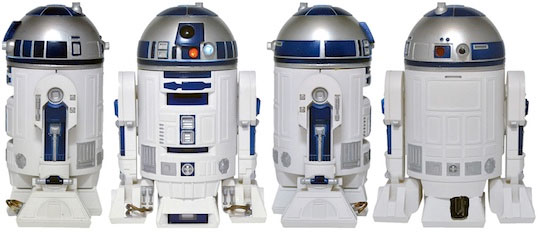r2d2: (380, 2, 535, 227), (116, 1, 266, 228), (1, 1, 105, 228), (270, 3, 370, 227)
